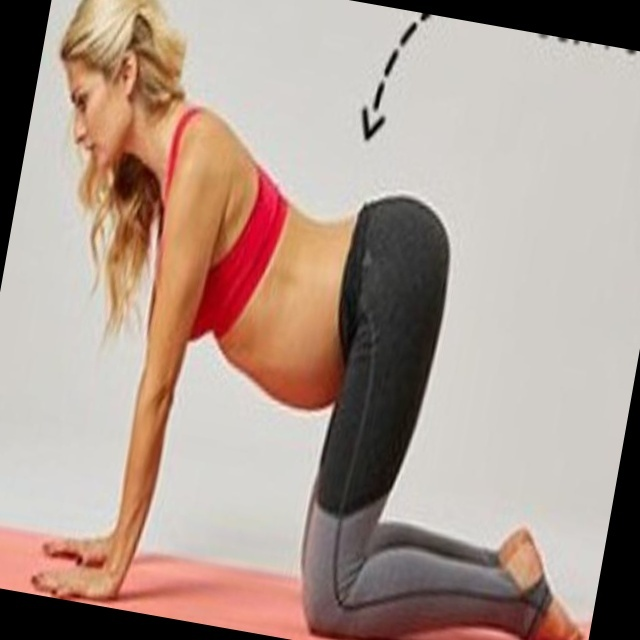Cow_Pose: (31, 4, 586, 635)
